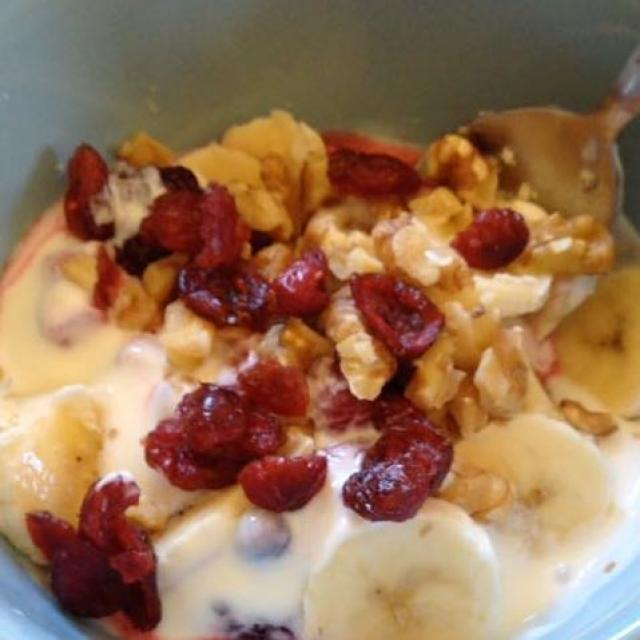birchermuesli: (2, 78, 626, 635)
